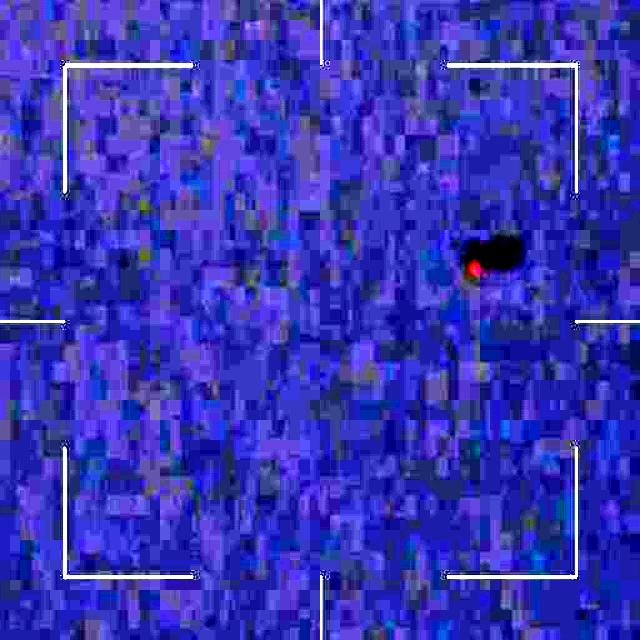bird: (462, 246, 490, 291)
